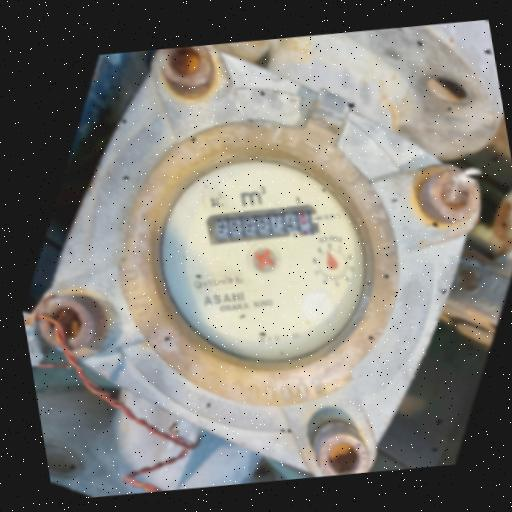4: (284, 210, 297, 231)
7: (270, 211, 284, 233)
8: (297, 209, 311, 235), (256, 213, 270, 234), (229, 216, 242, 237)
9: (214, 217, 229, 239), (244, 215, 256, 236)
border_water_meter_number: (204, 201, 322, 247)
